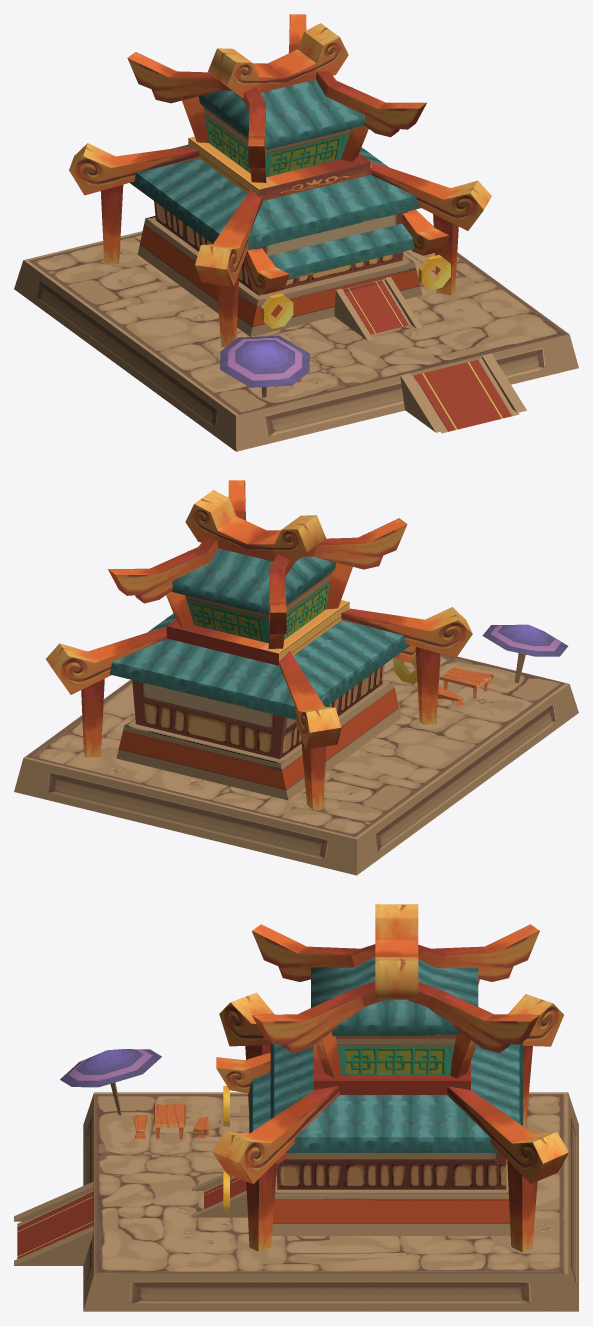
Rendered from Bank_low.FBX.
3 renders of one model, top to bottom at view 1: azimuth 30°, elevation 25°; view 2: azimuth 150°, elevation 25°; view 3: azimuth 270°, elevation 25°, orthographic. The views are drawn at different scales.
Visible parts, largest first — view 1: bank_low, bank_low01, bank_low02; view 2: bank_low; view 3: bank_low.
Boxes of the visible parts, x1,y1,x2,y2 form: bank_low: (14, 14, 578, 451); bank_low01: (261, 293, 293, 328); bank_low02: (418, 255, 450, 290); bank_low: (14, 480, 578, 875); bank_low: (14, 904, 578, 1311).
Size of the model in its own units: 56.11 by 71.81 by 41.38.
